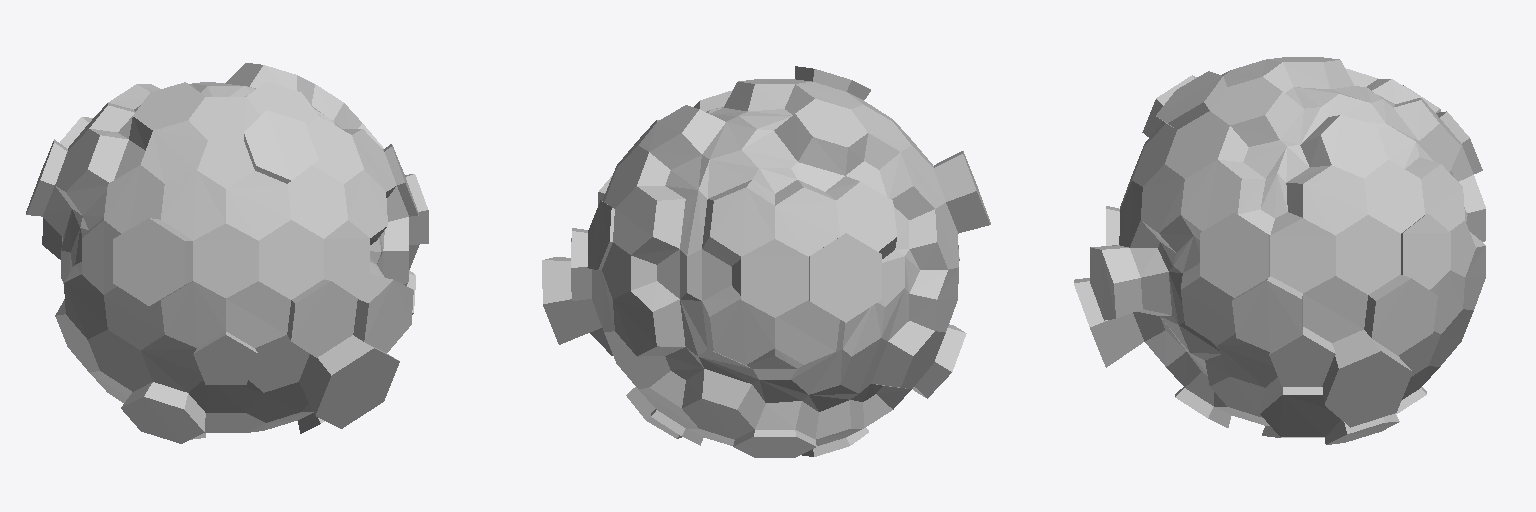
The model's file is desertGround.obj.
3 views of the same model, side by side, from view 1: azimuth 30°, elevation 25°; view 2: azimuth 150°, elevation 25°; view 3: azimuth 270°, elevation 25° (orthographic).
Visible parts, largest first — view 1: Ground_GD_mesh; view 2: Ground_GD_mesh; view 3: Ground_GD_mesh.
Part boxes in pixels (x1,y1,x2,y2): Ground_GD_mesh: (26, 63, 428, 443); Ground_GD_mesh: (542, 66, 990, 457); Ground_GD_mesh: (1074, 57, 1485, 444).
Size of the model in its own units: 4.5 by 4.03 by 4.41.